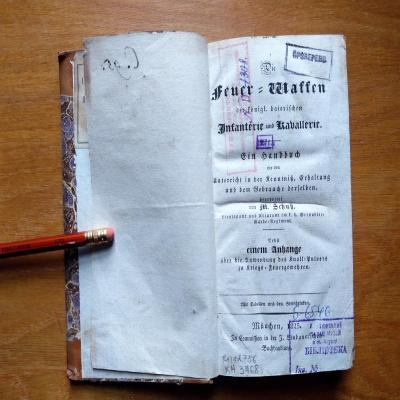rare_books: (61, 31, 356, 387)
